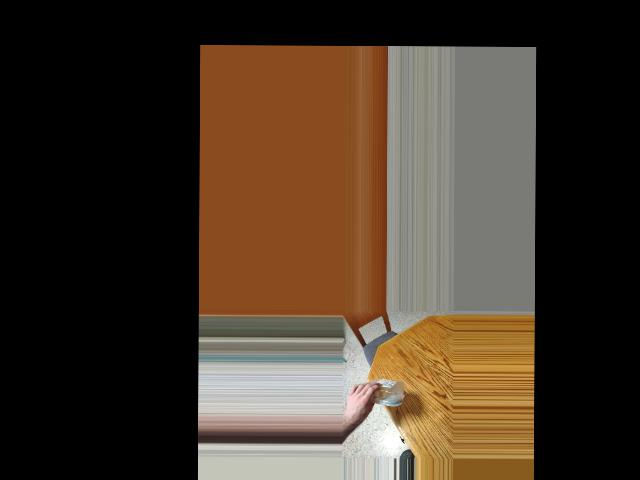cheese: (357, 375, 398, 410)
